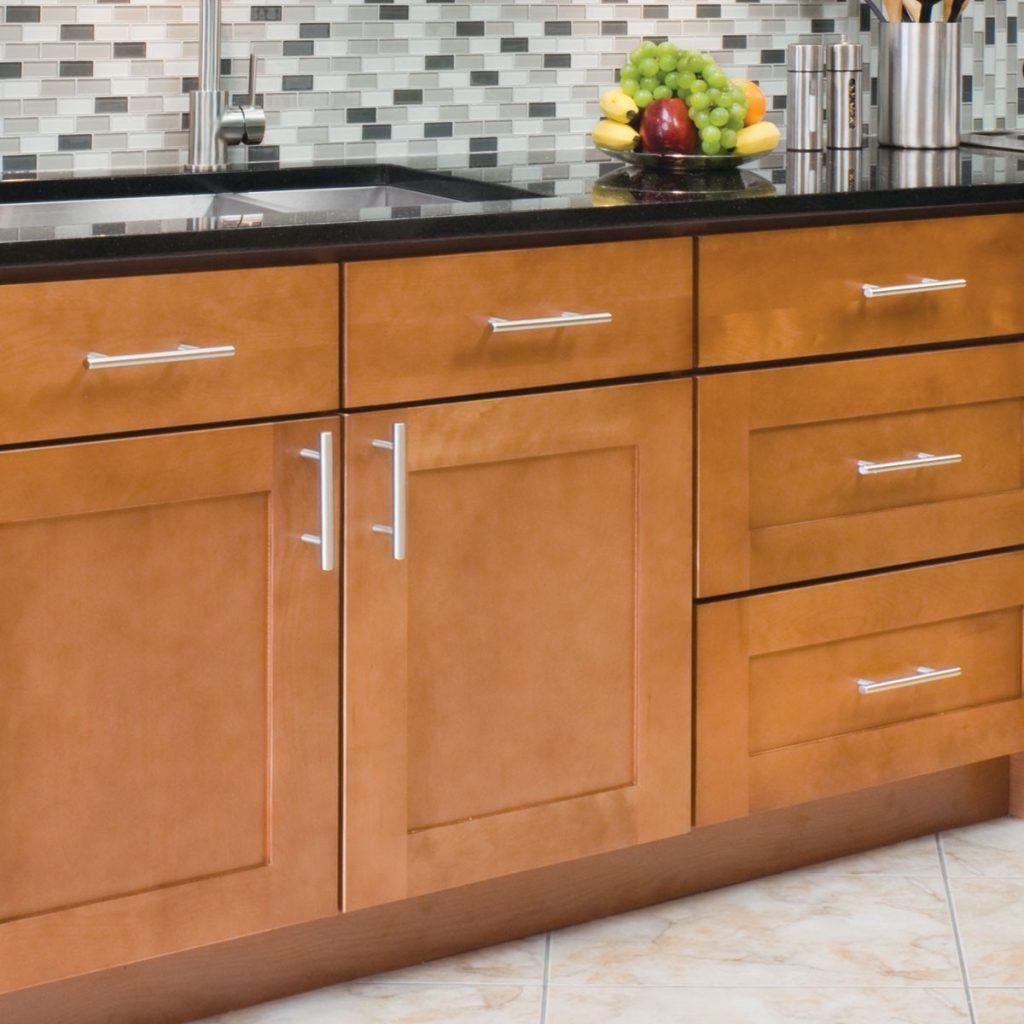cabinet_door: (8, 420, 338, 914), (350, 410, 690, 836), (715, 372, 1024, 552), (724, 572, 1022, 752), (0, 289, 347, 404), (352, 273, 690, 390), (712, 234, 1024, 358)
handle: (74, 330, 252, 381), (462, 294, 628, 346), (360, 421, 418, 566), (847, 664, 972, 714), (294, 436, 338, 574), (850, 440, 966, 486), (844, 276, 978, 312)
